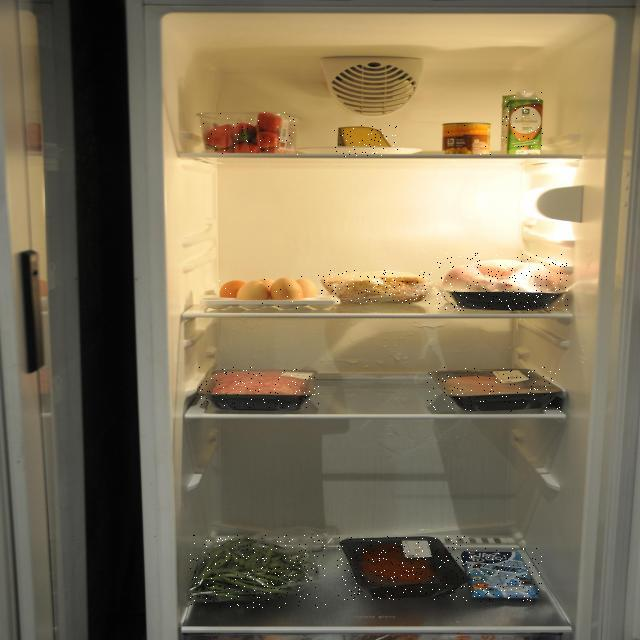beef: (337, 536, 472, 600)
bread: (318, 270, 432, 304)
cheese: (334, 125, 398, 157)
chicken: (436, 253, 568, 311)
chicken_breast: (426, 367, 562, 412)
chocolate: (459, 548, 542, 602)
corn: (438, 118, 494, 156)
eggs: (217, 276, 321, 309)
green_beans: (190, 535, 326, 608)
ground_beef: (198, 367, 320, 408)
heavy_cream: (500, 89, 544, 155)
strawberries: (199, 111, 299, 155)
